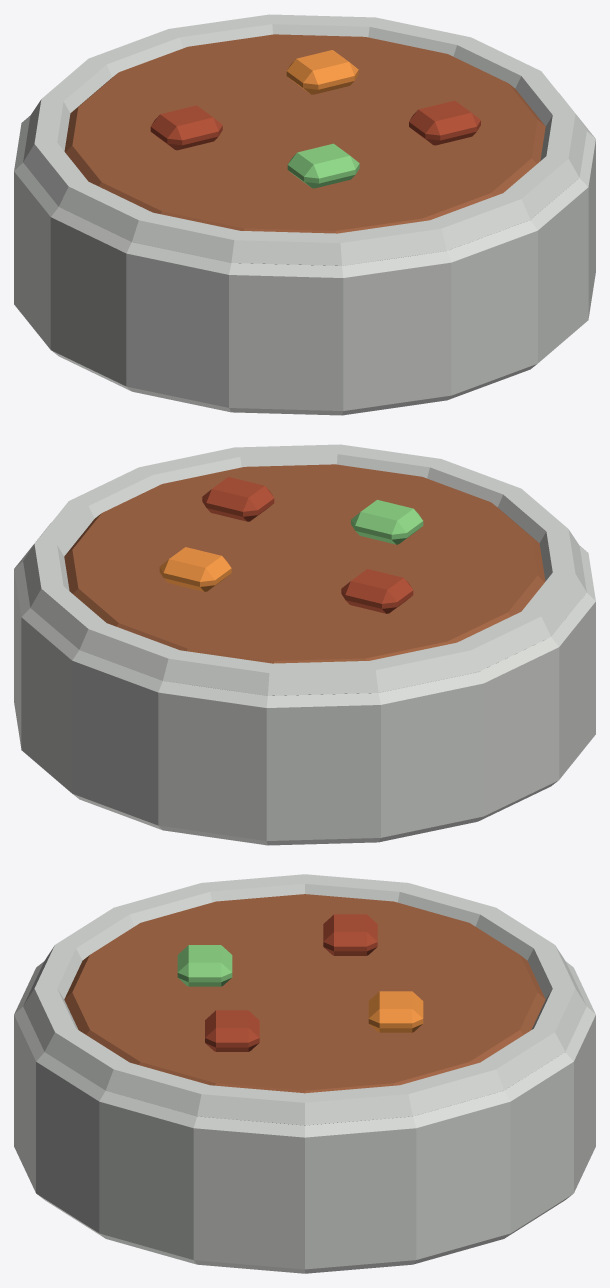
The model's file is beef_vegetable_stew.glb.
3 views of the same model, one above another, from view 1: azimuth 30°, elevation 25°; view 2: azimuth 150°, elevation 25°; view 3: azimuth 270°, elevation 25° (orthographic).
Parts seen in each view (by area): view 1: FTF_Dish_BeefVegetableStew_StaticMesh; view 2: FTF_Dish_BeefVegetableStew_StaticMesh; view 3: FTF_Dish_BeefVegetableStew_StaticMesh.
Boxes of the visible parts, <box> form: FTF_Dish_BeefVegetableStew_StaticMesh: <box>14,14,595,415</box>; FTF_Dish_BeefVegetableStew_StaticMesh: <box>14,444,595,845</box>; FTF_Dish_BeefVegetableStew_StaticMesh: <box>14,874,595,1273</box>.
Bounding box in the file's own units: 0.64 × 0.225 × 0.64.
